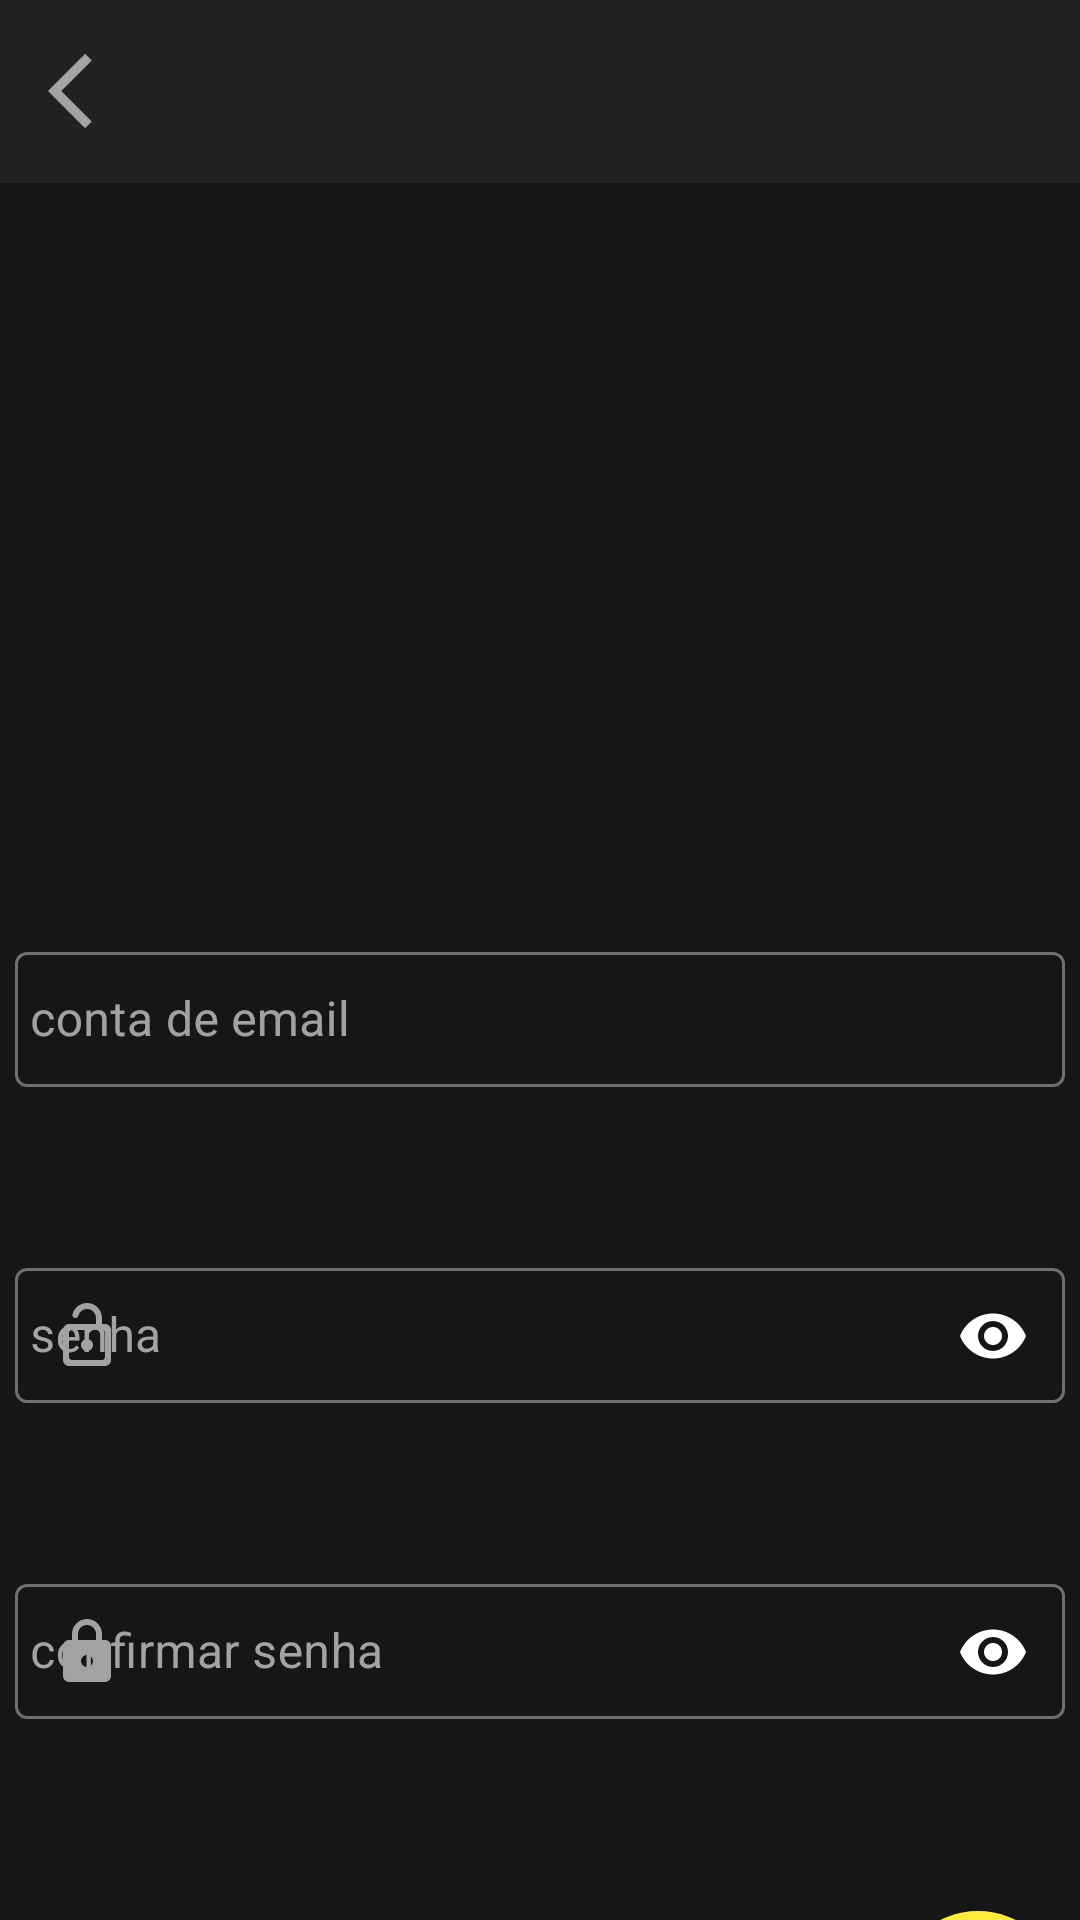

Screen size 1080*1920. Icon name, then its box in pixels as (x1, y1, x2, y2):
voltar: (48, 54, 92, 128)
